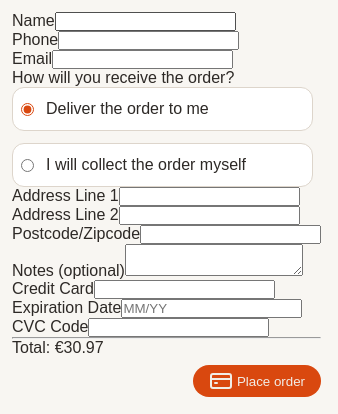
Test: CheckoutForm › hides delivery address fields when collection is selected
Check: the field labelled "Address Line 1" is shown, box left=119, top=187, right=300, bottom=206
Check: the field labelled "Postcode/Zipcode" is shown, box left=140, top=225, right=321, bottom=244
Click the radio button with test id "fulfilment-fields-radio-collection" at (28, 165), box left=21, top=158, right=34, bottom=172
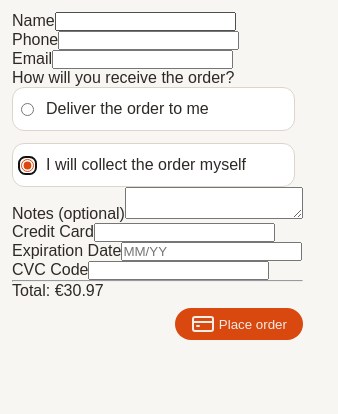
Check: the radio button with test id "fulfilment-fields-radio-delivery" is shown, box left=21, top=102, right=34, bottom=116
Check: the label labelled "Address Line 1" is gone
Check: the label labelled "Postcode/Zipcode" is gone
